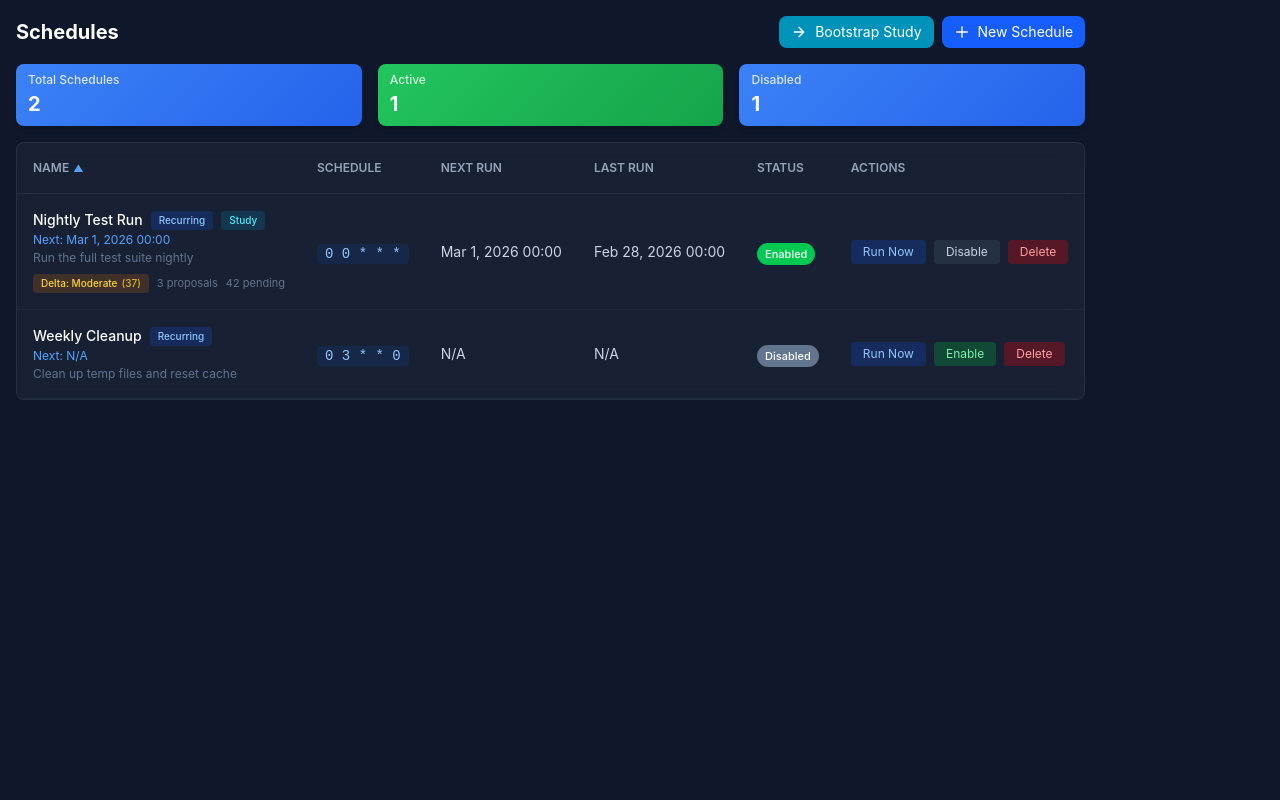
Scenario: Schedules › toggles bootstrap form visibility when Bootstrap Study is clicked
This screenshot has width=1280, height=800.
Click the button "Bootstrap Study" at coordinates (856, 32), box [779,16,934,48]
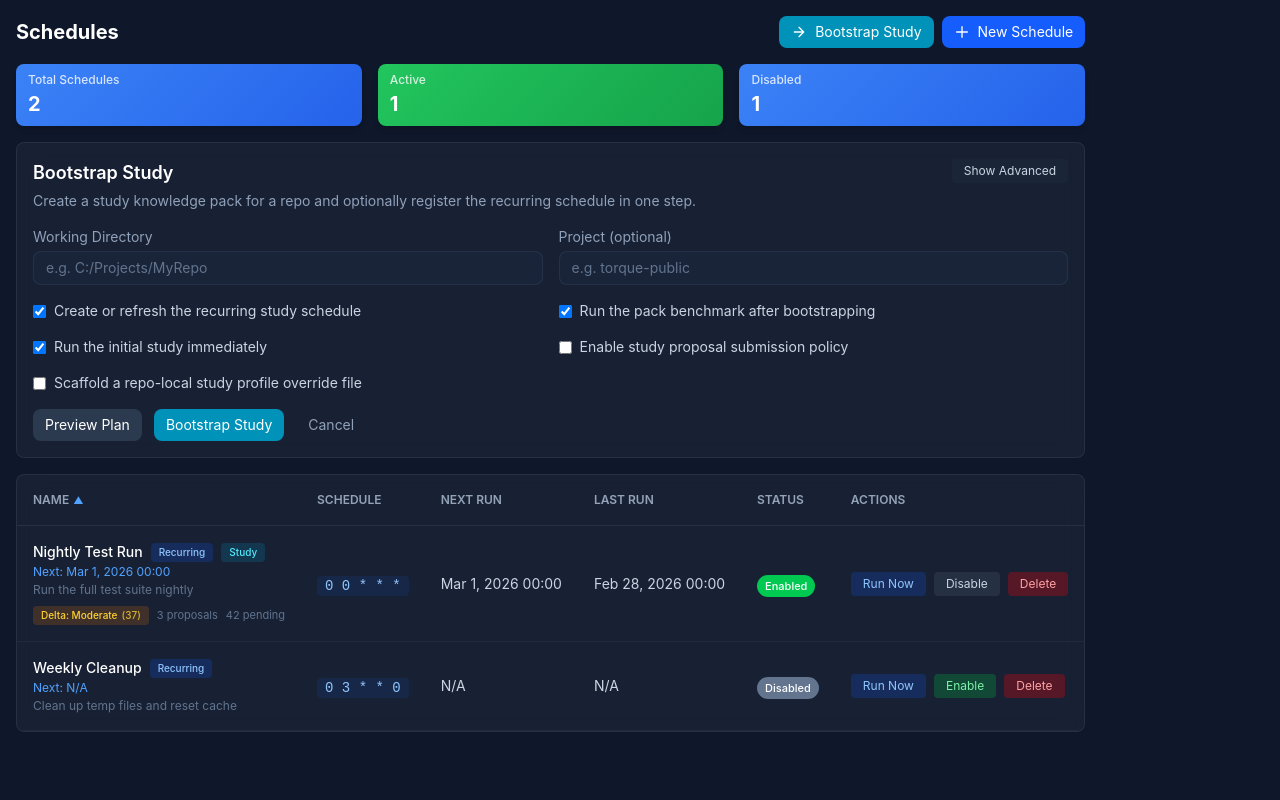
Expected: the text "Create a study knowledge pack for a repo and optionally register the recurring schedule in one step." is shown, [33,192,696,209]
